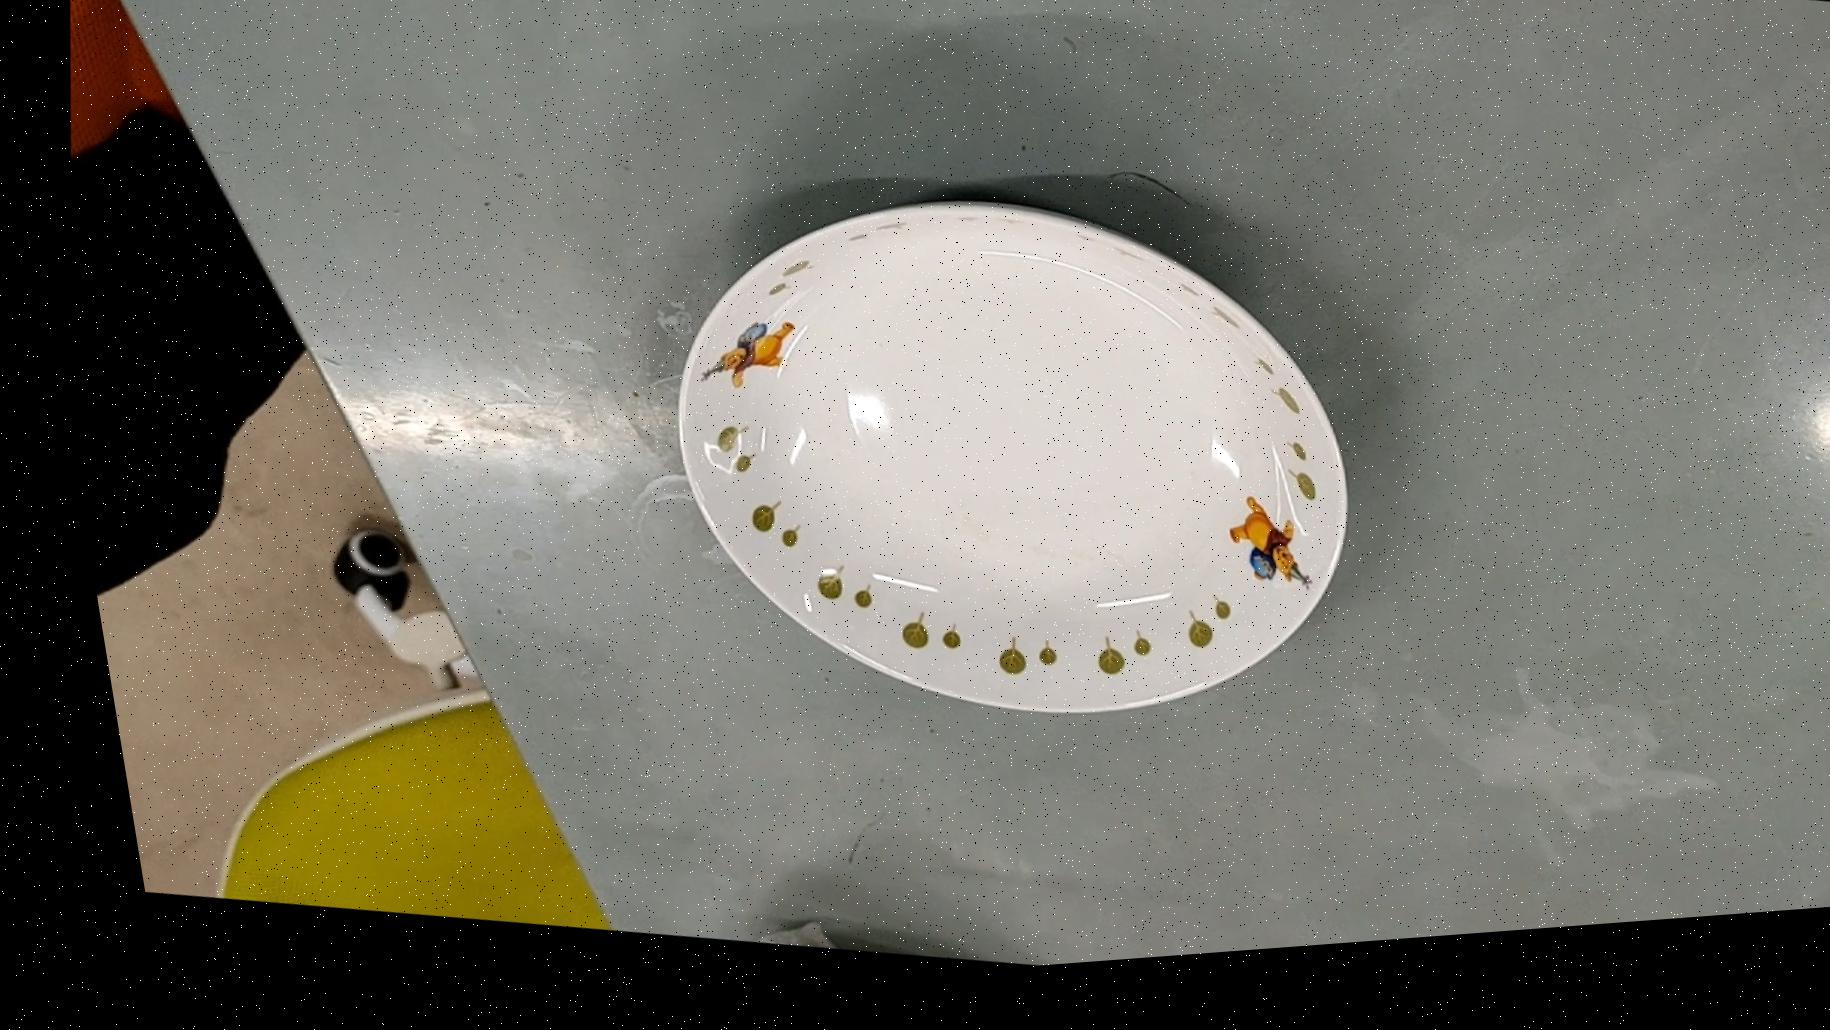plate: (589, 147, 1403, 797)
